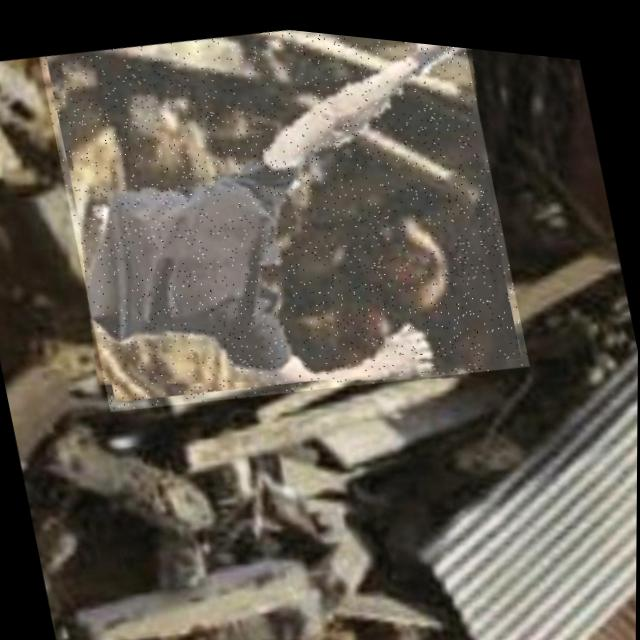Person in Rubble: (36, 3, 530, 443)
